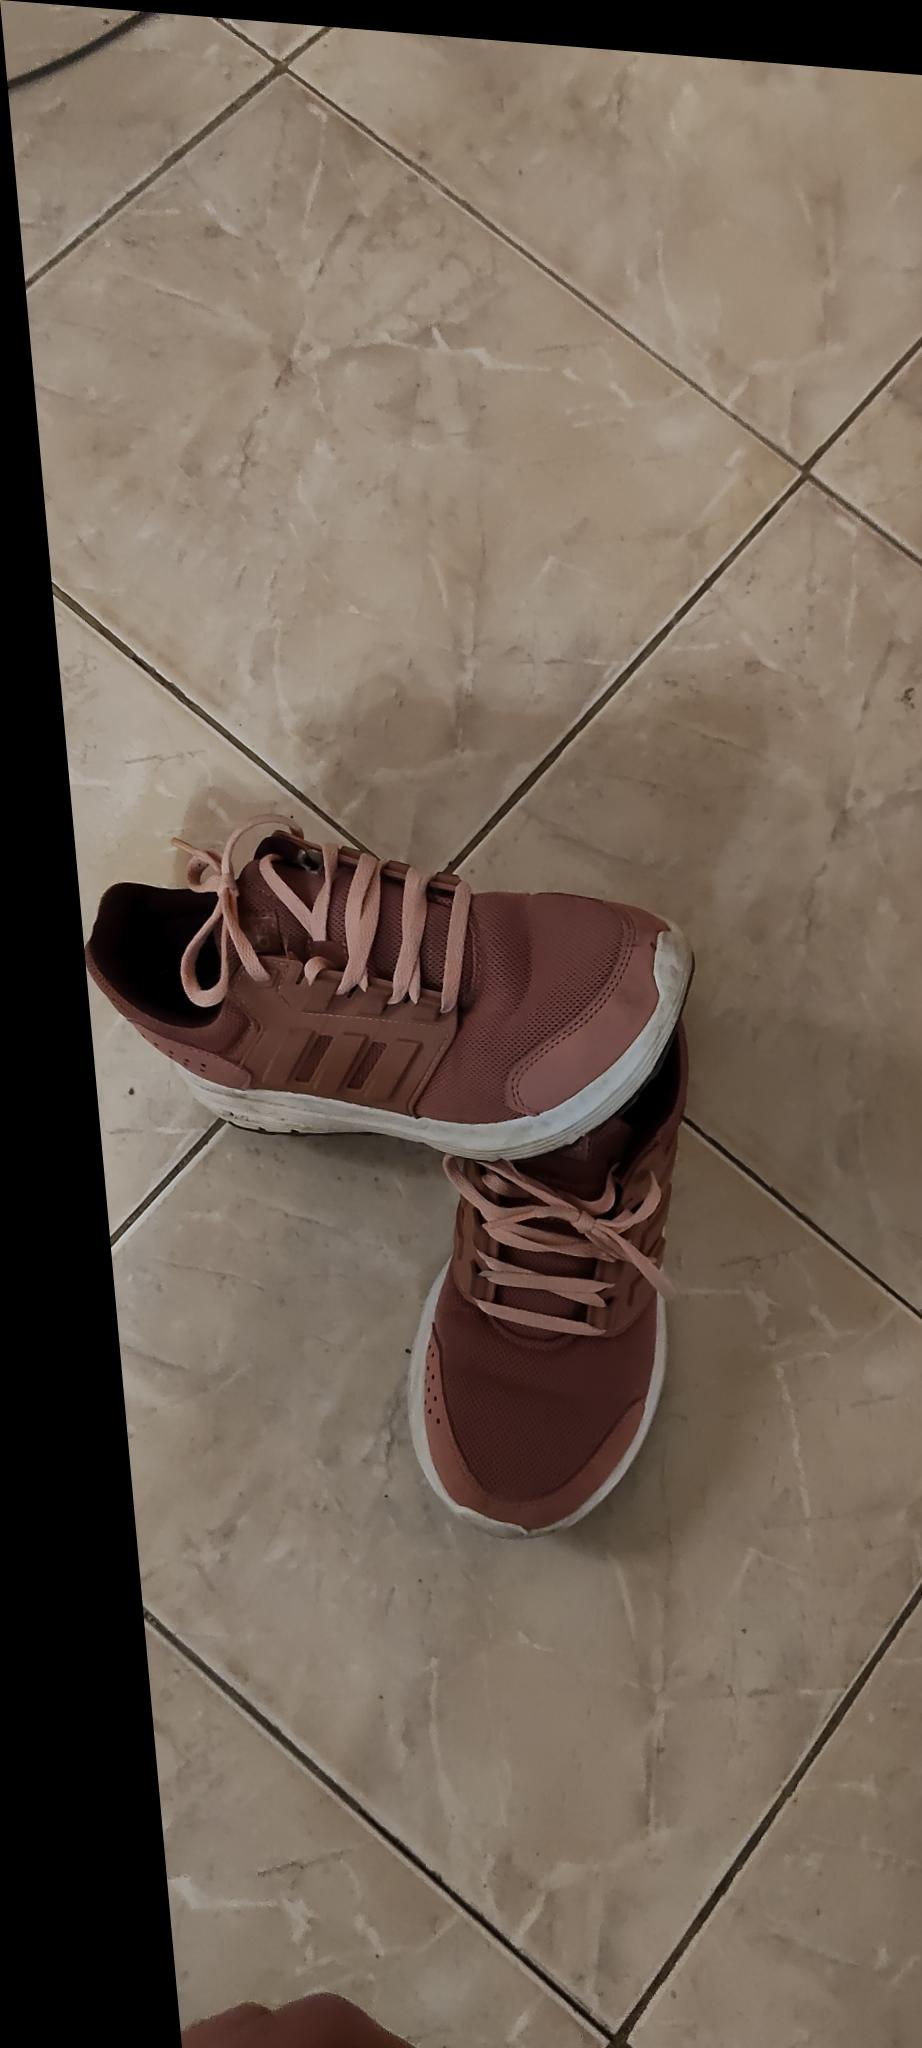Shoes: (71, 796, 713, 1180), (369, 975, 732, 1556)
